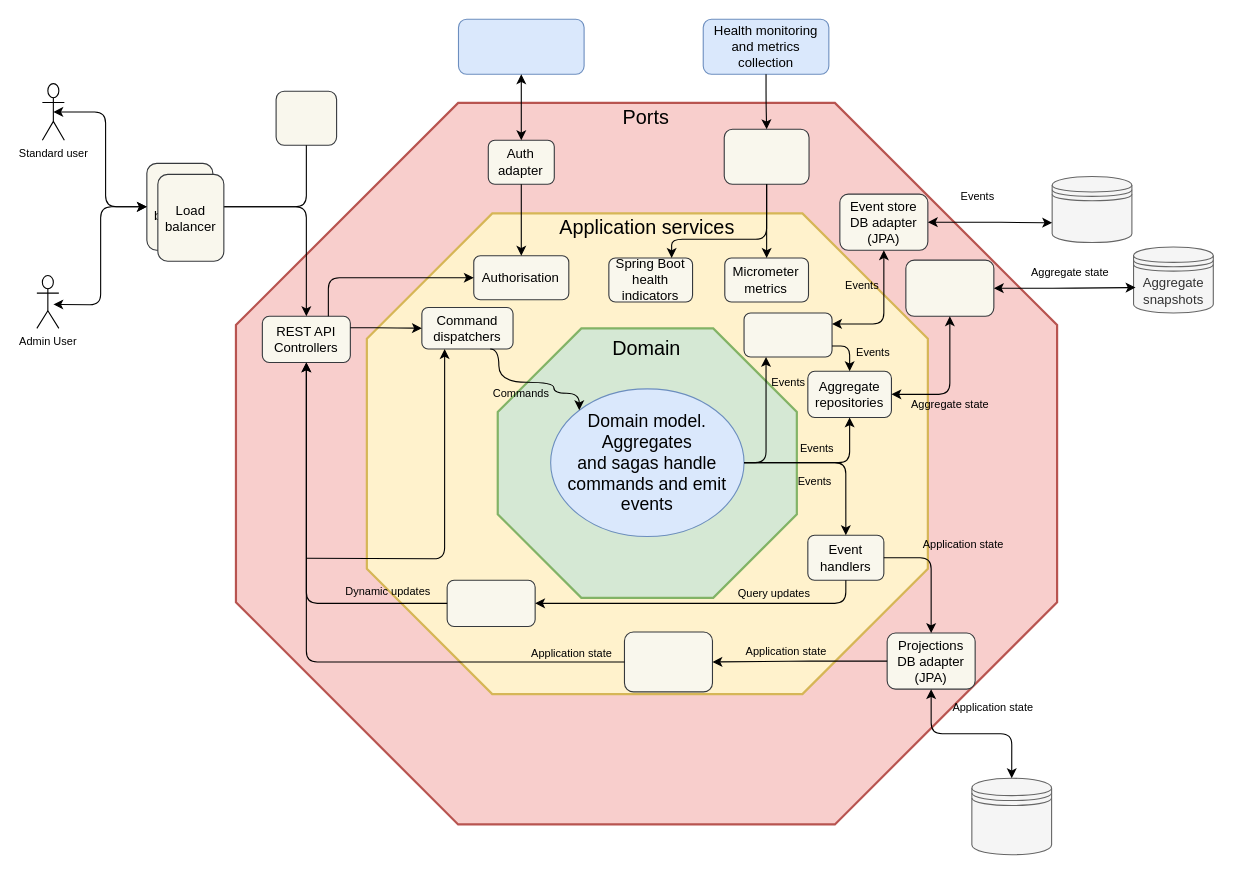
This 1233x875 diagram has some shape labels left out. Each missing label, with the box of its shape:
Aggregate snapshot adapter (JPA): (905, 259, 994, 316)
Append-only event log: (1051, 175, 1132, 243)
Axon event log: (743, 312, 832, 357)
Health monitoring REST APIs: (723, 128, 809, 184)
Keycloak identity federation: (457, 18, 584, 74)
Query (read) services: (623, 631, 712, 692)
Query subscriptions: (446, 579, 535, 626)
Read optimised projections: (971, 777, 1052, 855)
UI: (275, 90, 337, 145)
